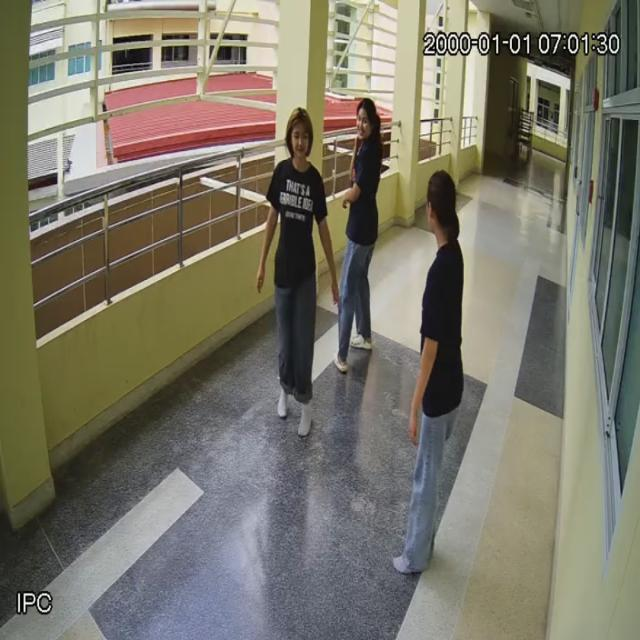normal: (389, 167, 469, 585), (257, 99, 324, 441), (331, 92, 385, 380)
